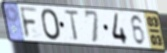4: (111, 12, 129, 47)
6: (130, 14, 147, 46)
7: (83, 9, 100, 45)
F: (18, 6, 39, 40)
O: (40, 8, 63, 42)
T: (62, 10, 81, 42)
